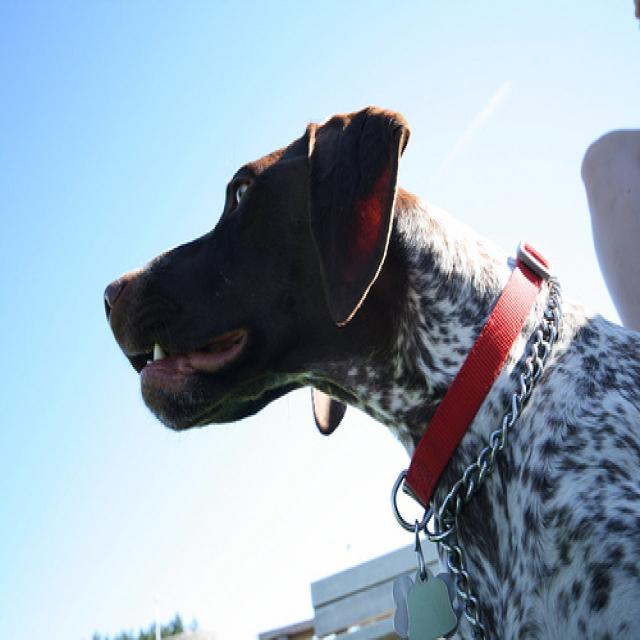dog-german_shorthaired: (93, 106, 637, 636)
